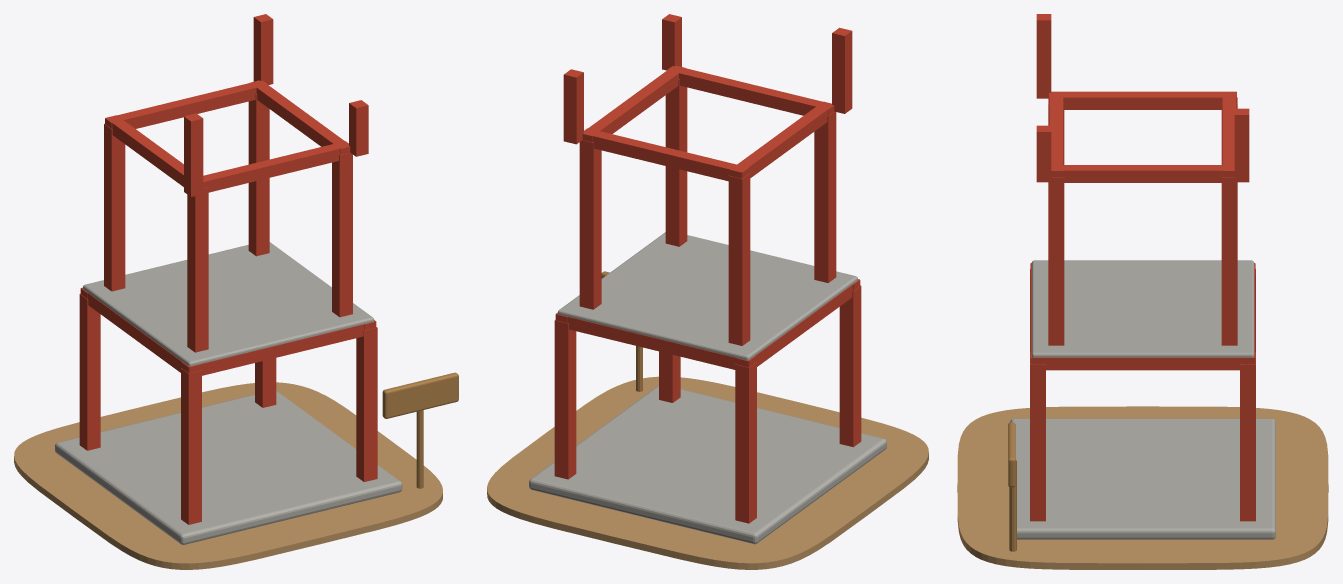
File: clock-tower-lod1-1.bae38bf0.glb
3 views of the same model, side by side, from view 1: azimuth 30°, elevation 25°; view 2: azimuth 150°, elevation 25°; view 3: azimuth 270°, elevation 25° (orthographic). The views are drawn at different scales.
Visible parts, largest first — view 1: ClockTower_Stage1__T_vcol; view 2: ClockTower_Stage1__T_vcol; view 3: ClockTower_Stage1__T_vcol.
Part boxes in pixels (left/top/right/bottom): ClockTower_Stage1__T_vcol: left=14, top=14, right=458, bottom=569; ClockTower_Stage1__T_vcol: left=487, top=14, right=928, bottom=569; ClockTower_Stage1__T_vcol: left=957, top=14, right=1328, bottom=569.
Bounding box in the file's own units: 4.98 × 6.18 × 4.8.
